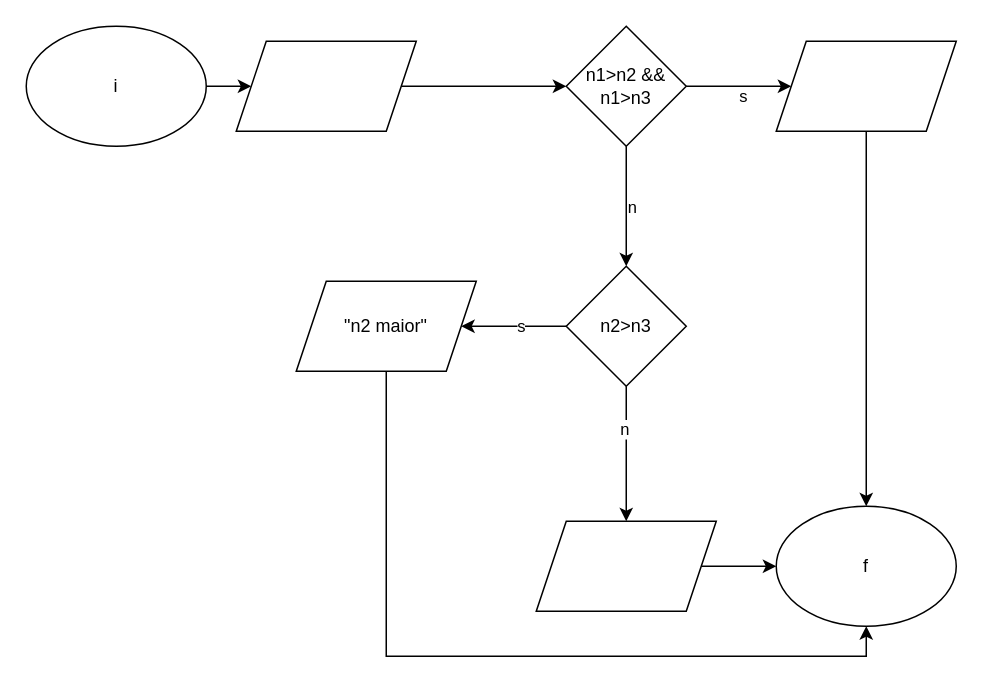
This 983x695 diagram has some shape labels left out. Here are the shapes that lost their labels. From the top down, the box of each, then its label:
(235, 40, 416, 131): ler n1, n2, n3
(775, 40, 956, 131): "n1 maior"
(535, 520, 716, 611): "n3 maior"
